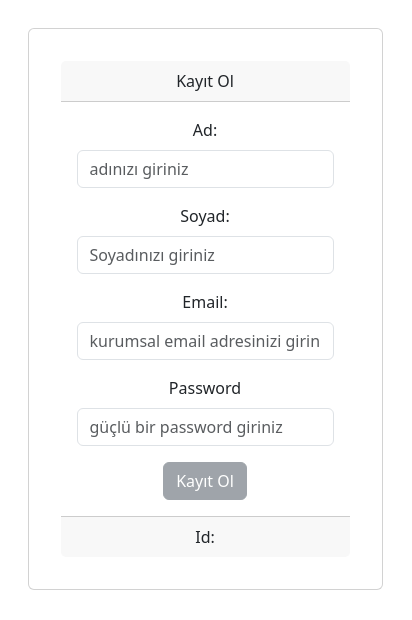
Register Page › Error Mesages › Surname input throws error for 2 chars
Step 1. Type "so" into the field with test id "soyad-input" → [206, 255], box 77,236 -> 334,274
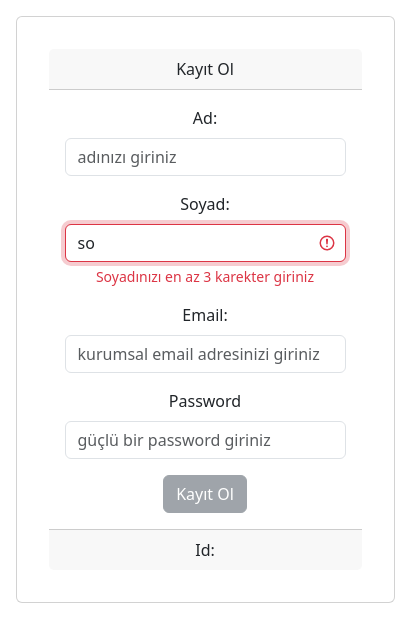
Result: the text "Soyadınızı en az 3 karekter giriniz" is shown at 96,266 -> 314,286
